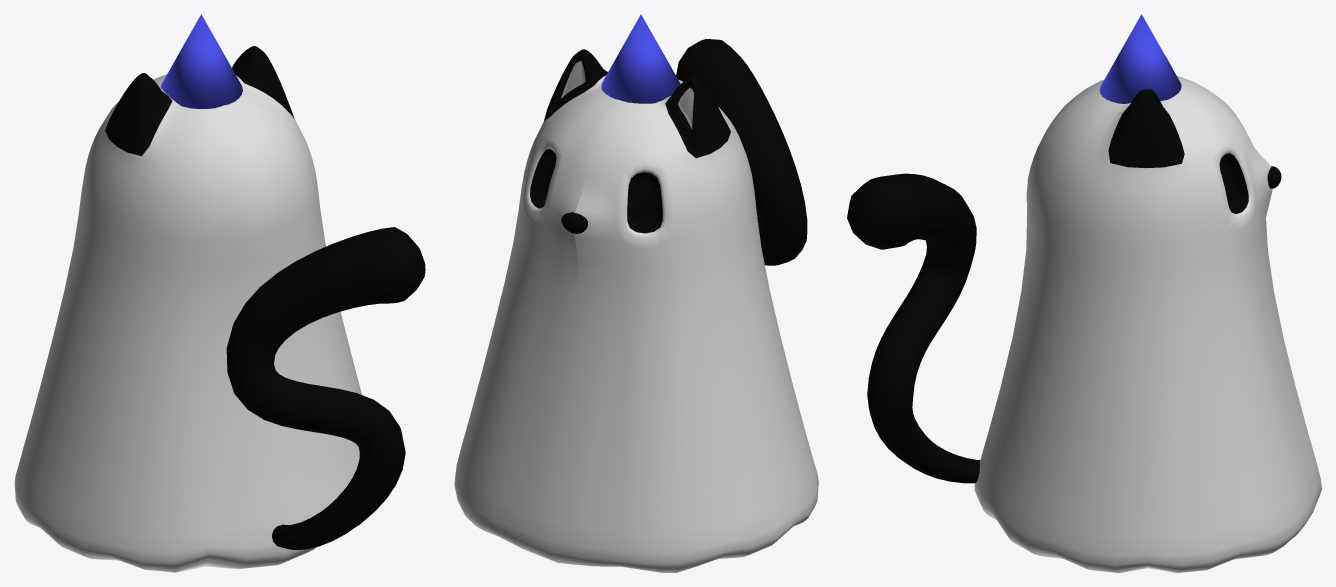
Rendered from ghost_blue.glb.
3 renders of one model, left to right at view 1: azimuth 30°, elevation 25°; view 2: azimuth 150°, elevation 25°; view 3: azimuth 270°, elevation 25°, orthographic.
Visible parts, largest first — view 1: Sphere, BezierCurve, Cone; view 2: Sphere, BezierCurve, Cone; view 3: Sphere, BezierCurve, Cone.
Part boxes in pixels (<box>): Sphere: <box>14,46,361,572</box>; BezierCurve: <box>226,227,425,549</box>; Cone: <box>161,14,242,108</box>; Sphere: <box>454,49,818,572</box>; BezierCurve: <box>676,39,807,265</box>; Cone: <box>601,14,680,103</box>; Sphere: <box>974,57,1321,572</box>; BezierCurve: <box>847,173,980,483</box>; Cone: <box>1099,14,1181,103</box>.
Bounding box in the file's own units: 4.1 × 6.06 × 5.25.
